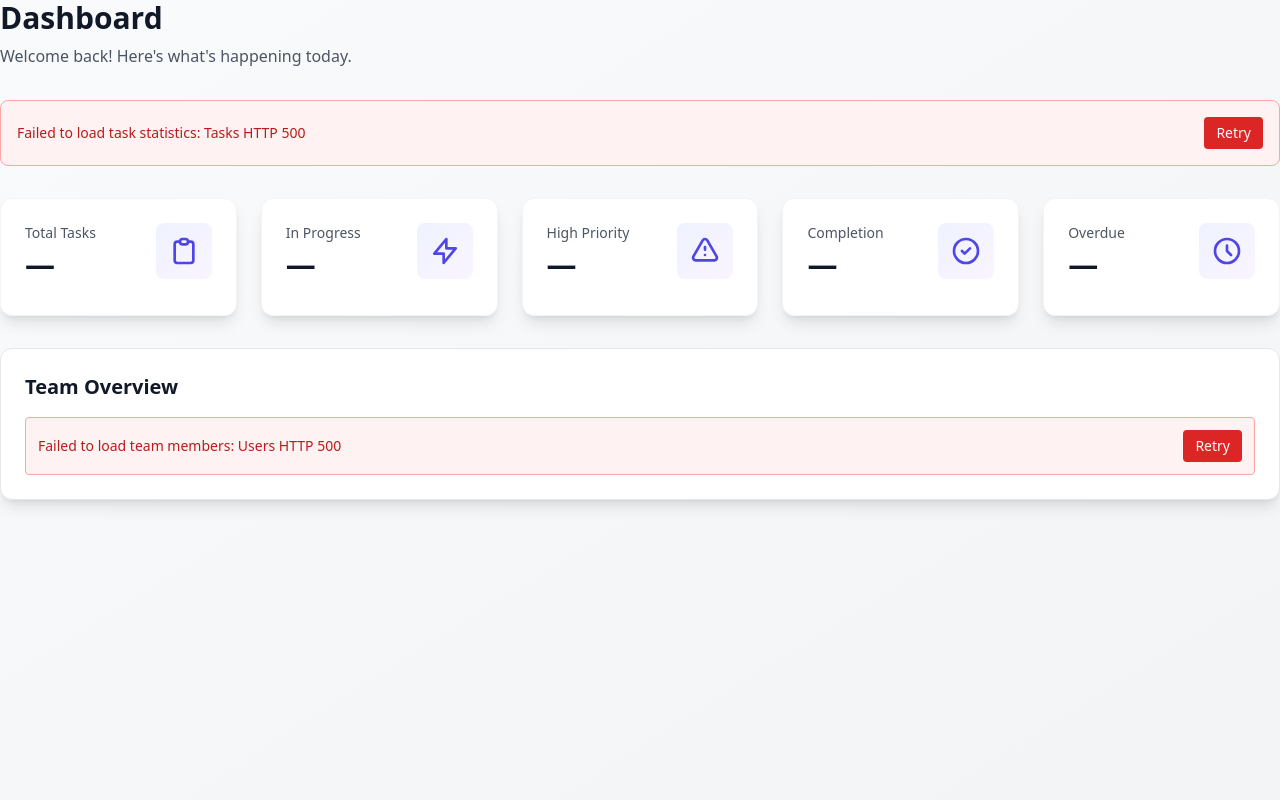
Scenario: Dashboard independent tasks/users load states › keeps the users error standing after a tasks-only retry succeeds (one section's success does not clear the other's error)
This screenshot has width=1280, height=800.
Check: the number of messages is 2, box [0,100,1279,166]; [25,417,1255,475]
Click the button "Retry" in the row of "Tasks HTTP 500".
click(1234, 133)  # box [1204,117,1263,149]
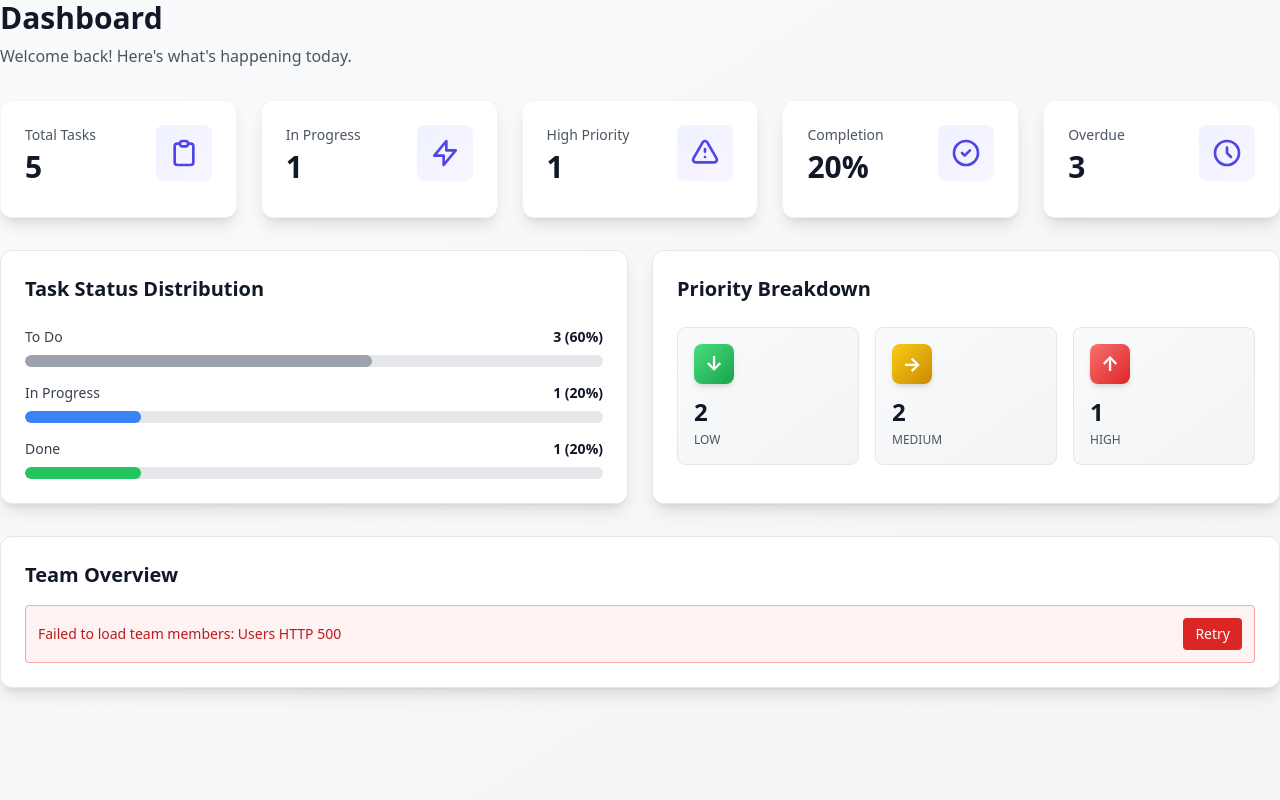
Check: the message shows "Failed to load team members", box [38,624,238,643]
Check: the link with aria-label "View all tasks" shows "5", box [0,100,237,218]
